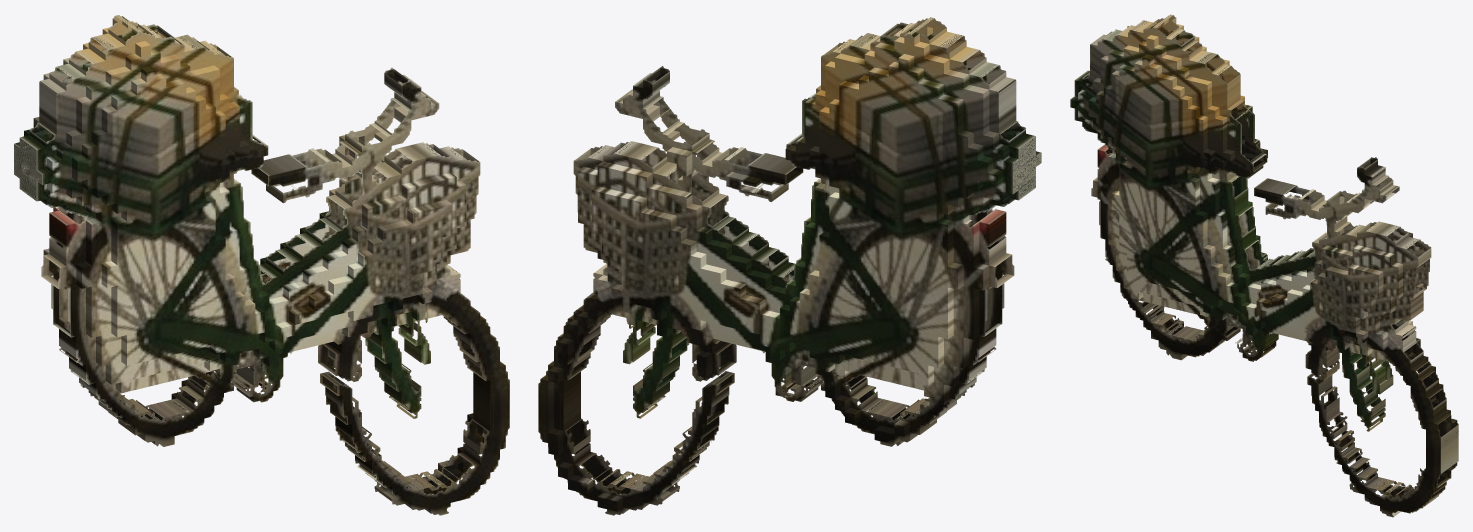
Rendered from veh_0.glb.
3 views of the same model, side by side, from view 1: azimuth 30°, elevation 25°; view 2: azimuth 150°, elevation 25°; view 3: azimuth 330°, elevation 25° (orthographic). The views are drawn at different scales.
Visible parts, largest first — view 1: veh_0; view 2: veh_0; view 3: veh_0.
Boxes of the visible parts, left/top/right/bottom form: veh_0: left=14, top=15, right=509, bottom=515; veh_0: left=538, top=17, right=1041, bottom=515; veh_0: left=1070, top=14, right=1458, bottom=517.
Bounding box in the file's own units: 48 × 54 × 7.
Materials: 1 (1 with a texture image).
